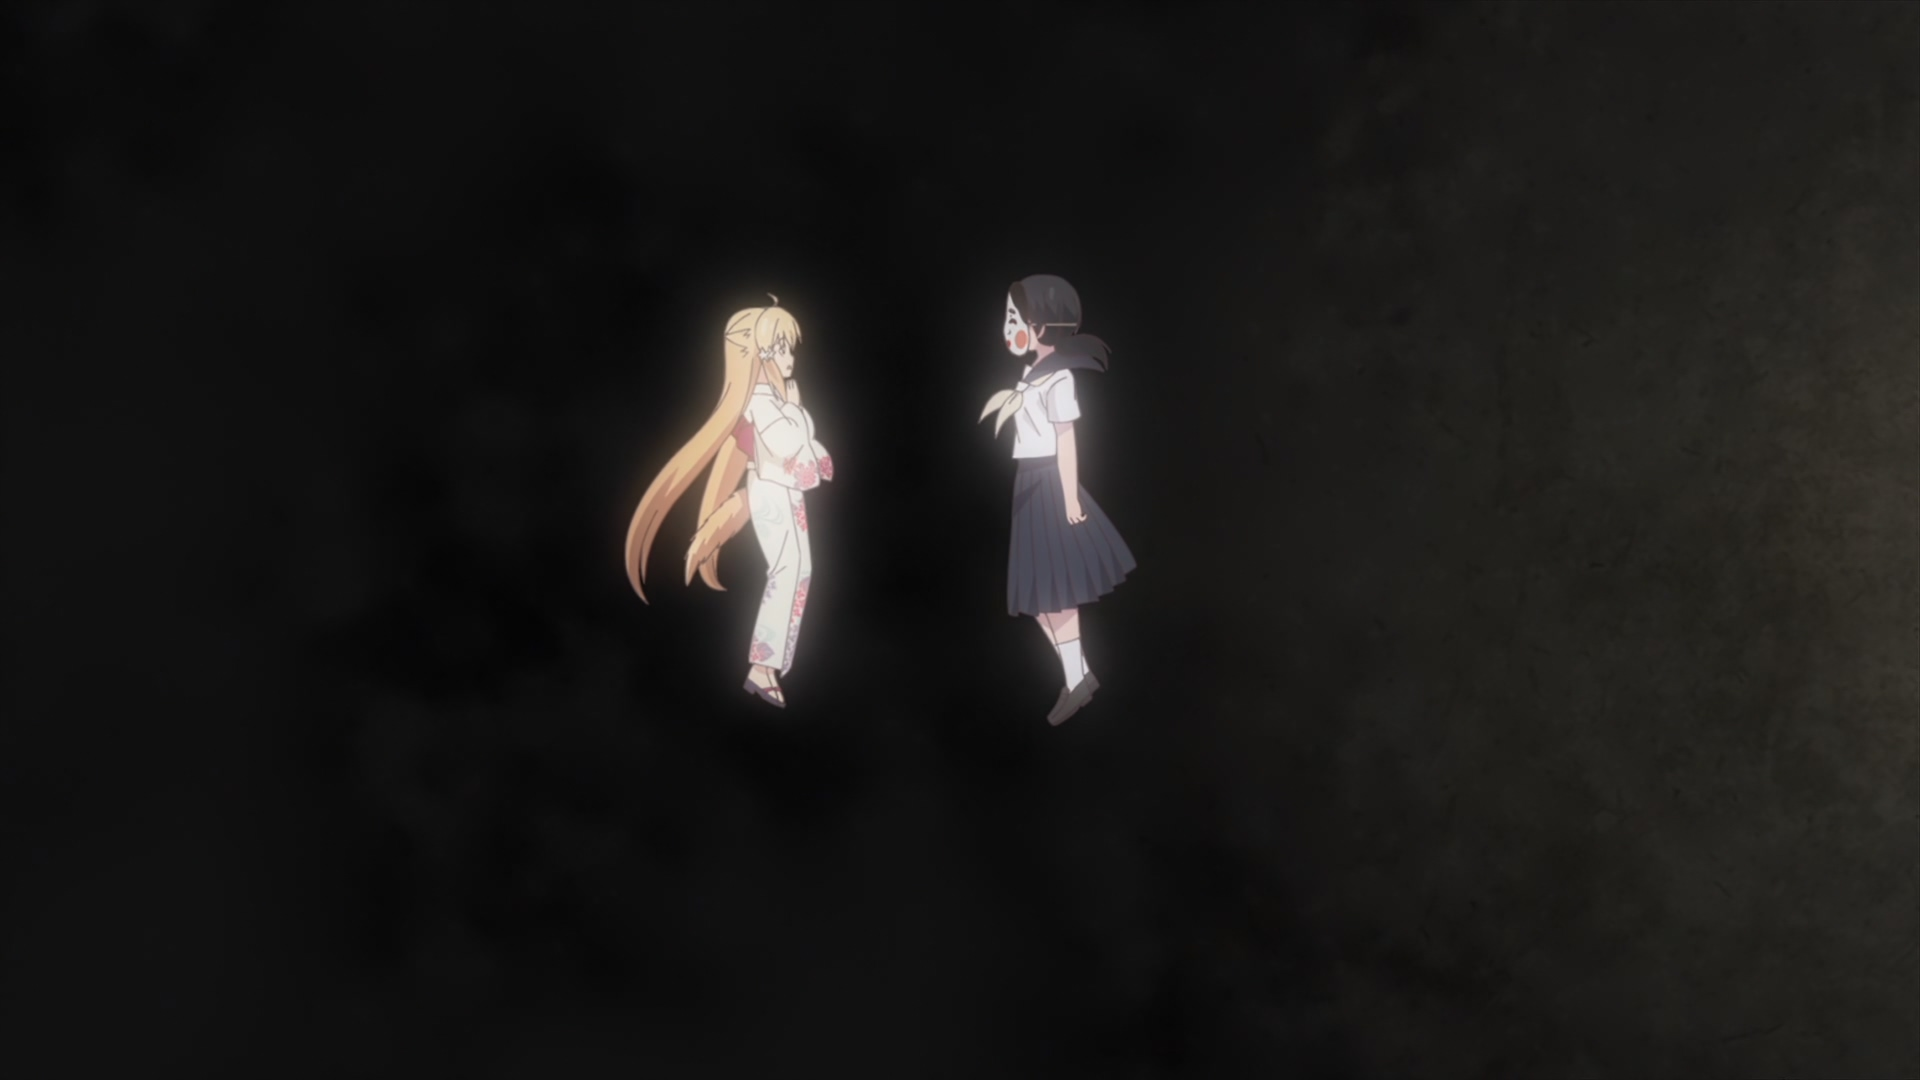其他: (978, 276, 1135, 727)
柚: (626, 293, 833, 705)
